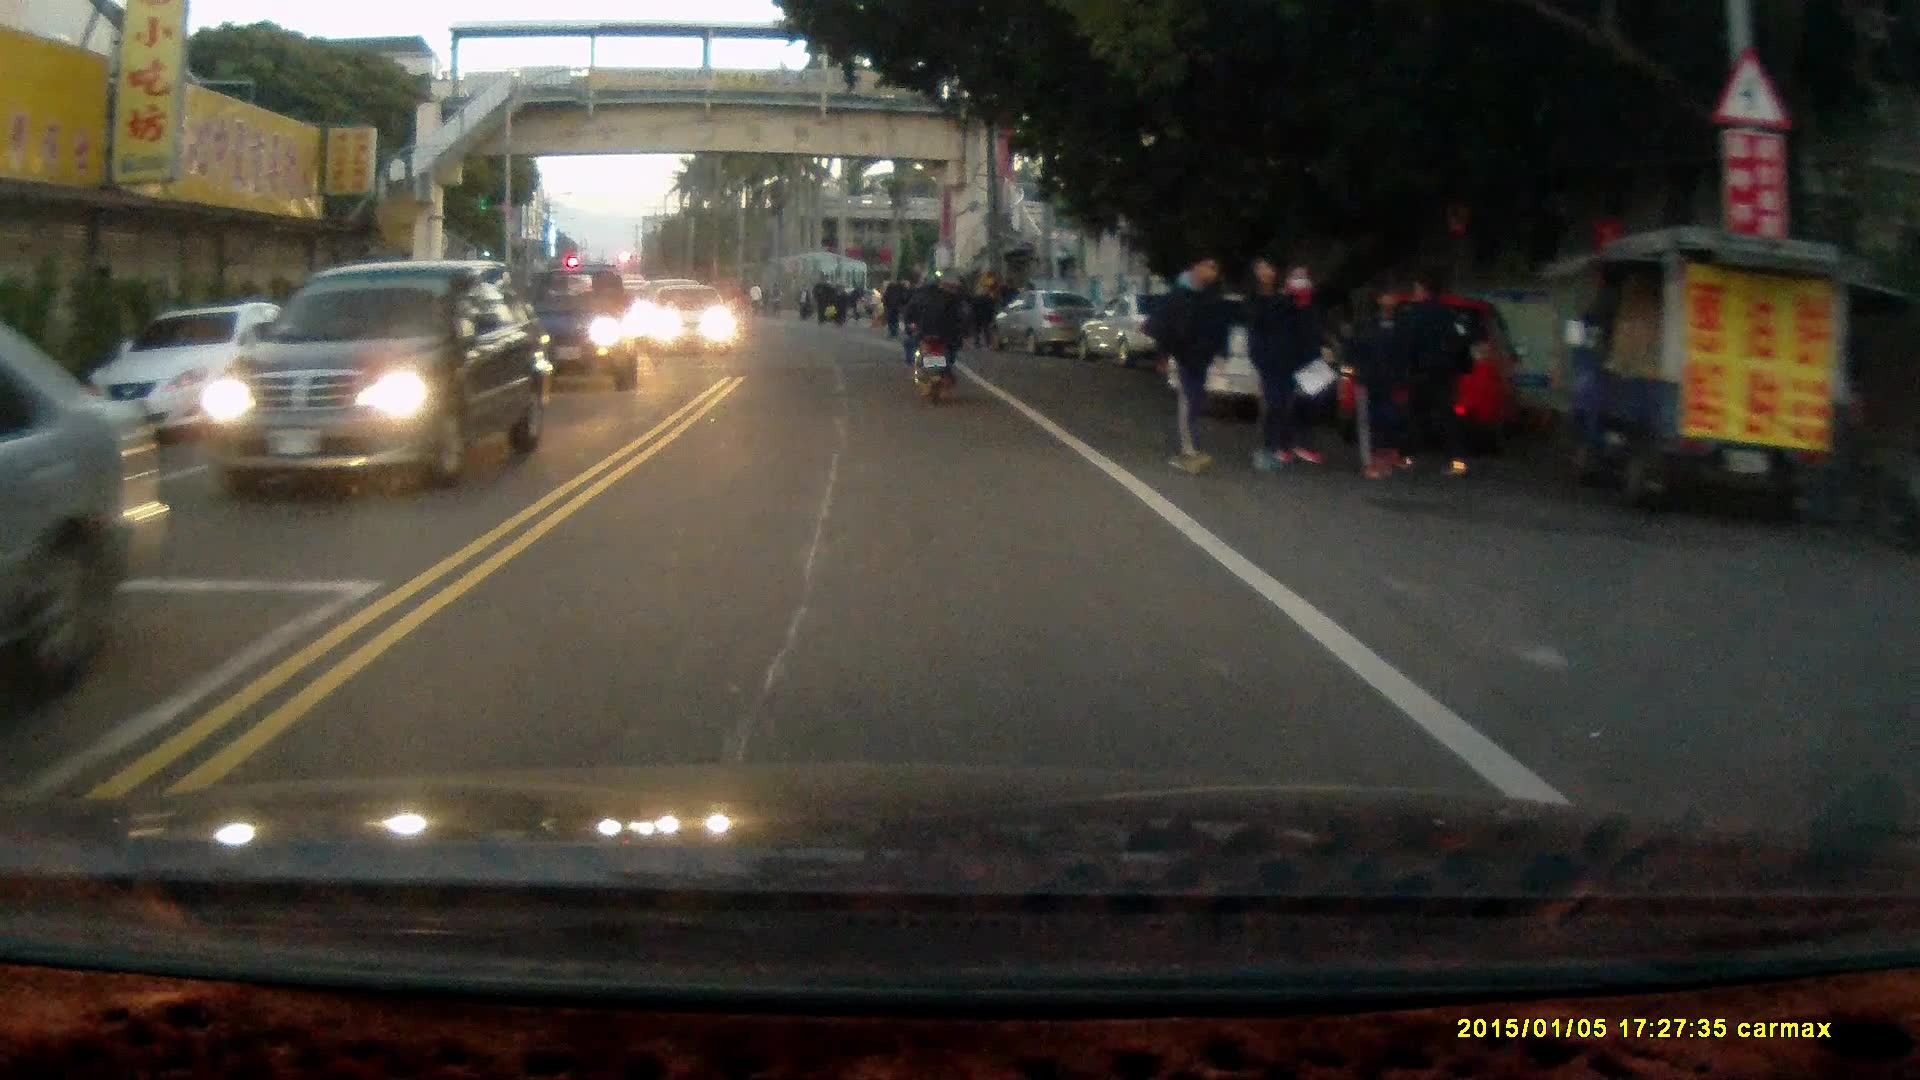pedestrian: (1150, 243, 1232, 478), (1400, 272, 1476, 486), (1344, 282, 1424, 483), (1239, 250, 1309, 476), (1262, 255, 1318, 458)
rider: (893, 269, 962, 404)
vehicle: (202, 257, 557, 500), (1, 371, 159, 663), (1307, 289, 1520, 455), (1163, 284, 1382, 425), (497, 269, 640, 395), (1079, 289, 1200, 368), (990, 292, 1103, 357), (650, 286, 742, 359)
